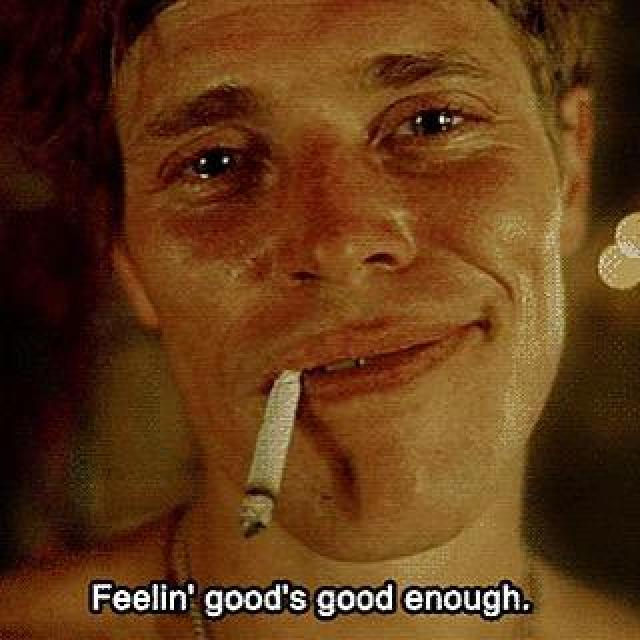cigarette: (234, 348, 324, 526)
